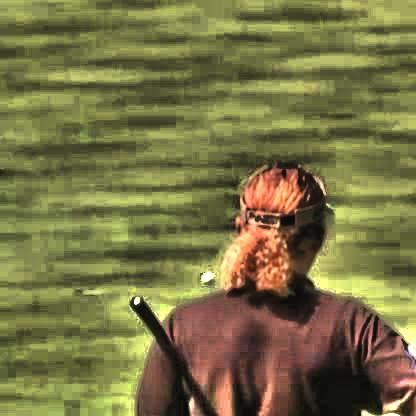golfball: (200, 268, 213, 281)
